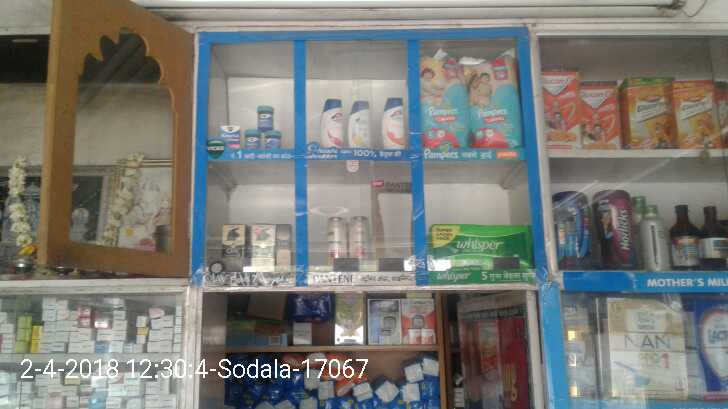vicks: (219, 105, 280, 149)
